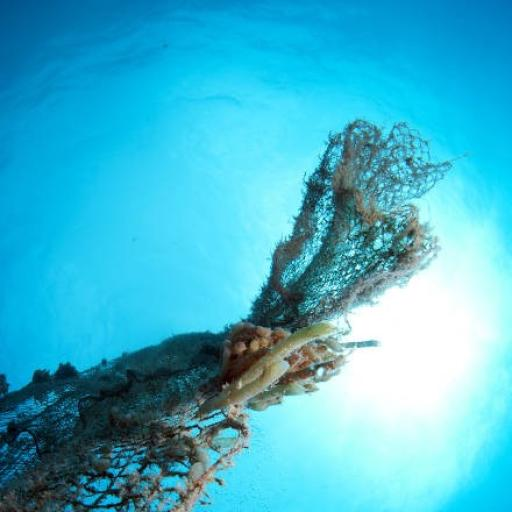net: (2, 111, 463, 512)
